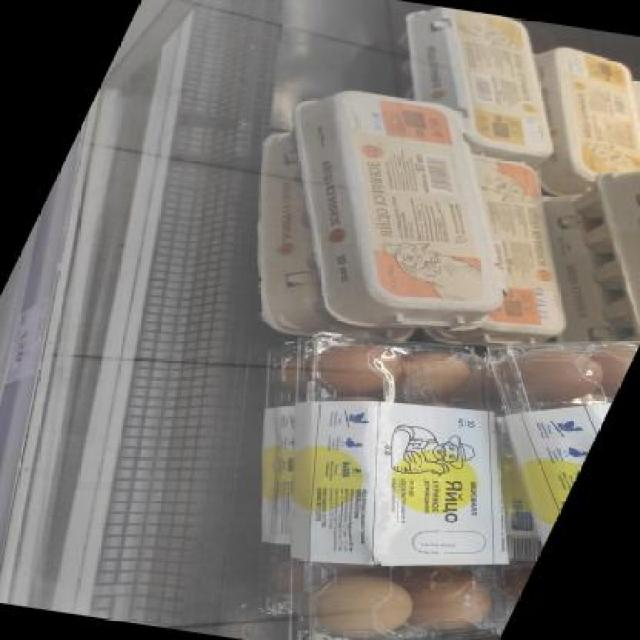Egg: (201, 75, 594, 340)
